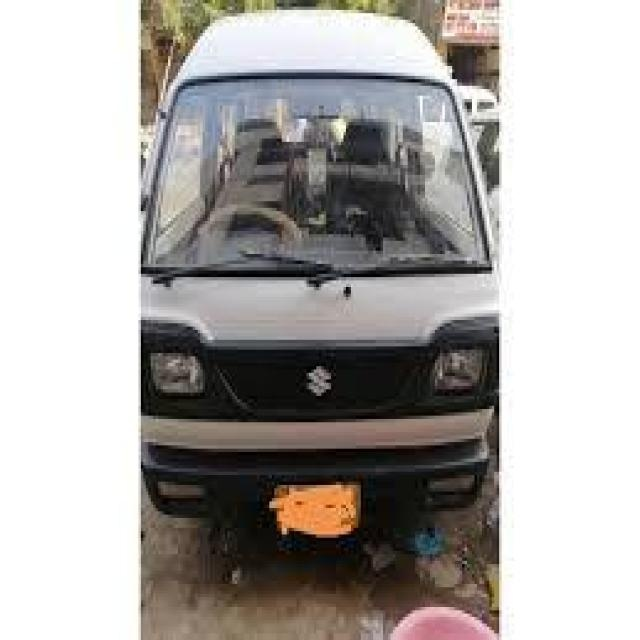Van: (138, 0, 502, 541)
